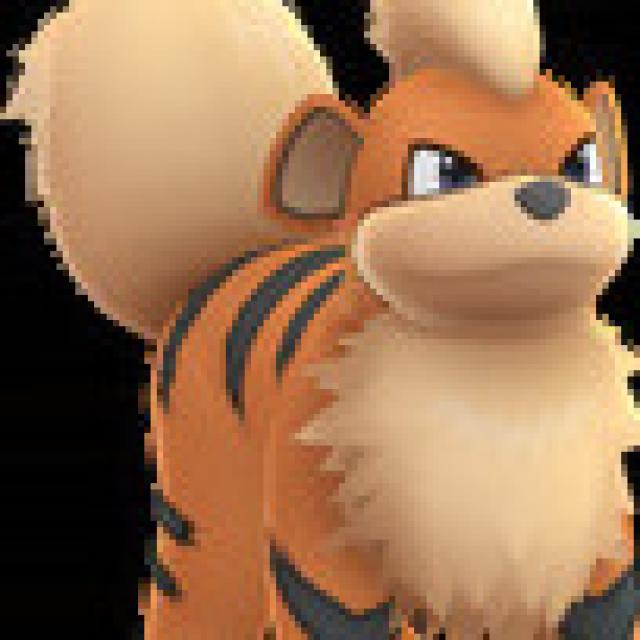Growlithe: (123, 3, 640, 640)
